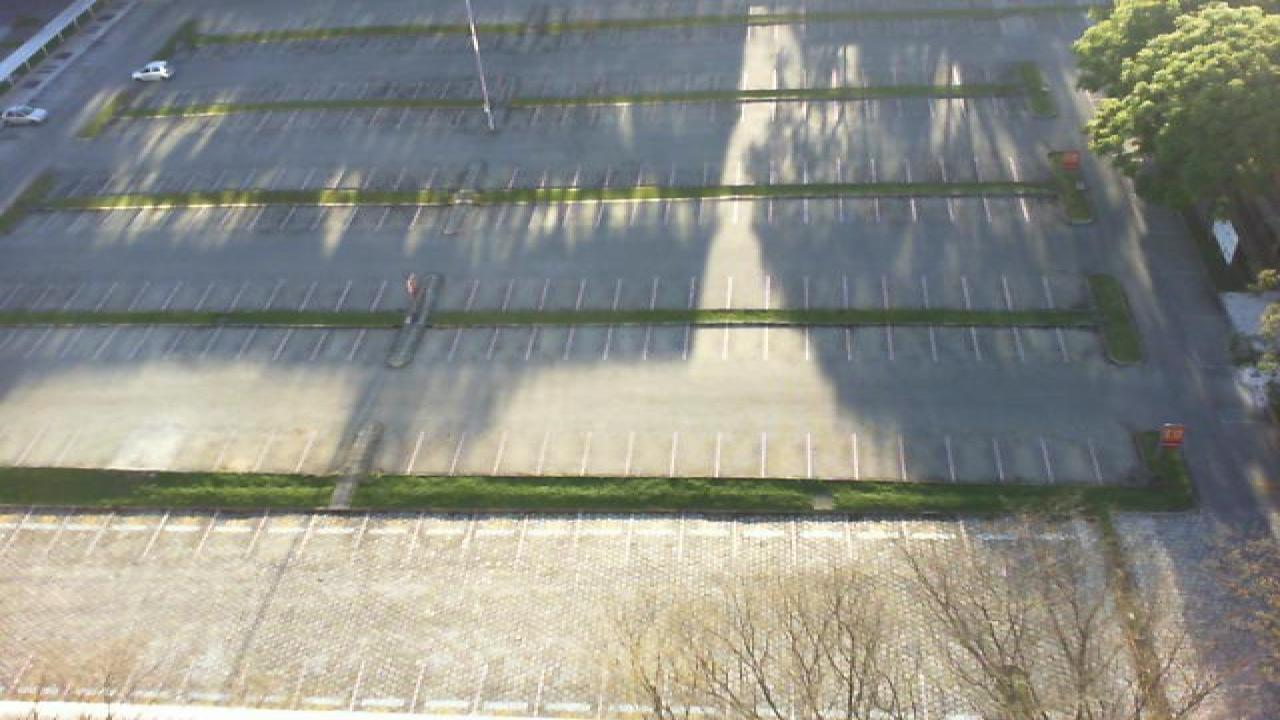Car: (0, 106, 46, 126), (132, 61, 172, 82)
